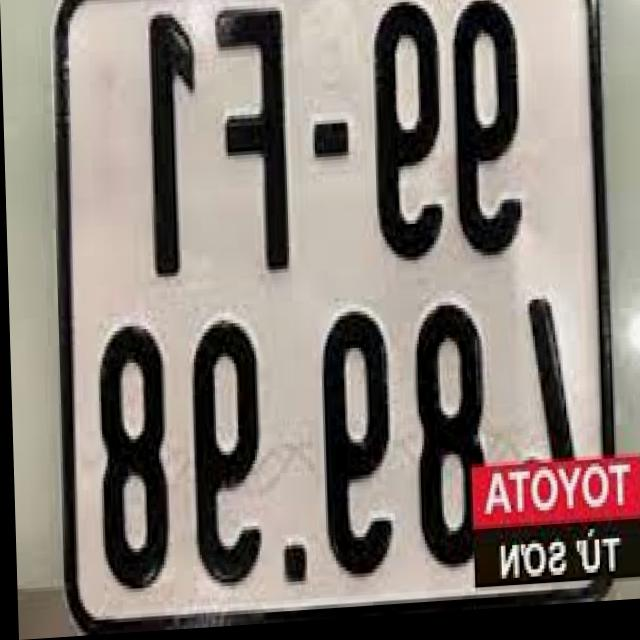a: (0, 0, 640, 640)
bien so: (31, 0, 630, 626)
